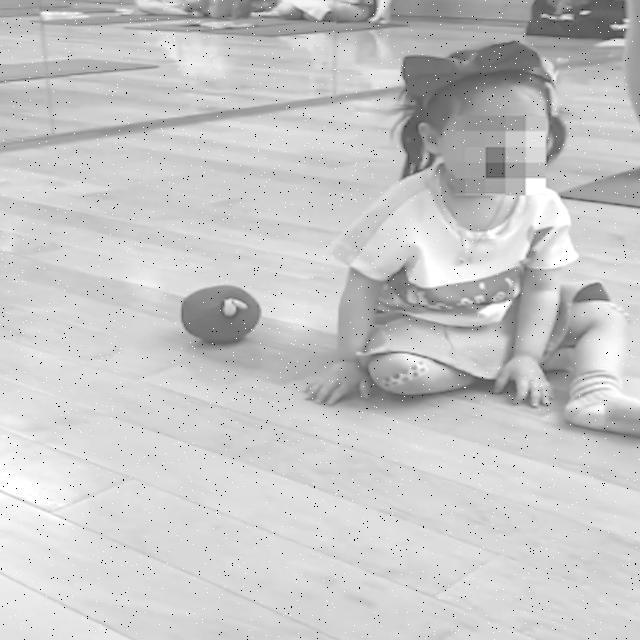child: (313, 37, 640, 448)
